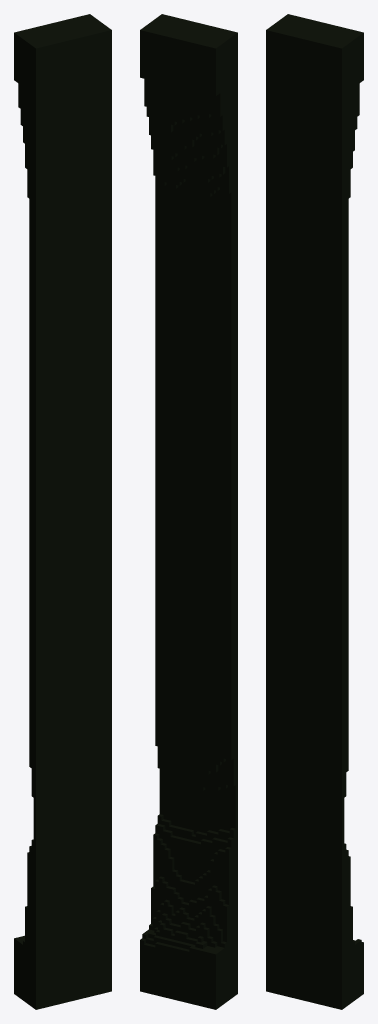
File: Wall_1.glb
The picture shows the model from 3 angles, left to right: view 1: azimuth 30°, elevation 25°; view 2: azimuth 150°, elevation 25°; view 3: azimuth 330°, elevation 25°; orthographic projection.
Visible parts, largest first — view 1: Untitled.031, Untitled.019, Untitled.024; view 2: Untitled.031, Untitled.019, Untitled.024; view 3: Untitled.031, Untitled.019, Untitled.024.
Boxes of the visible parts, box(x1,y1,x2,y2) form: Untitled.031: box(14, 534, 111, 1009); Untitled.019: box(29, 197, 111, 552); Untitled.024: box(14, 14, 111, 215); Untitled.031: box(140, 523, 237, 1009); Untitled.019: box(155, 185, 237, 541); Untitled.024: box(140, 14, 237, 203); Untitled.031: box(266, 534, 363, 1009); Untitled.019: box(266, 197, 348, 552); Untitled.024: box(266, 14, 363, 215).
Size of the model in its own units: 2 by 24.2 by 1.
3 materials, 3 textured.
